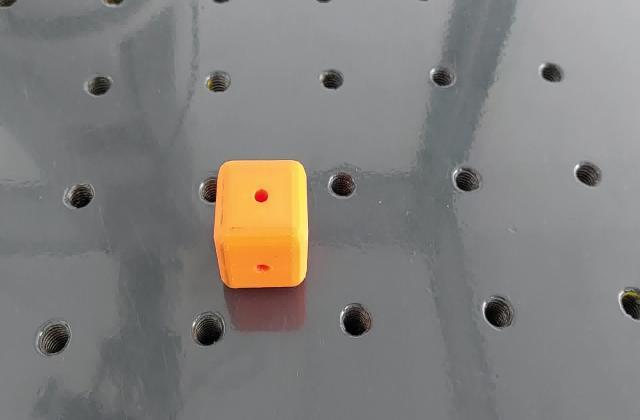cube: (213, 156, 310, 290)
